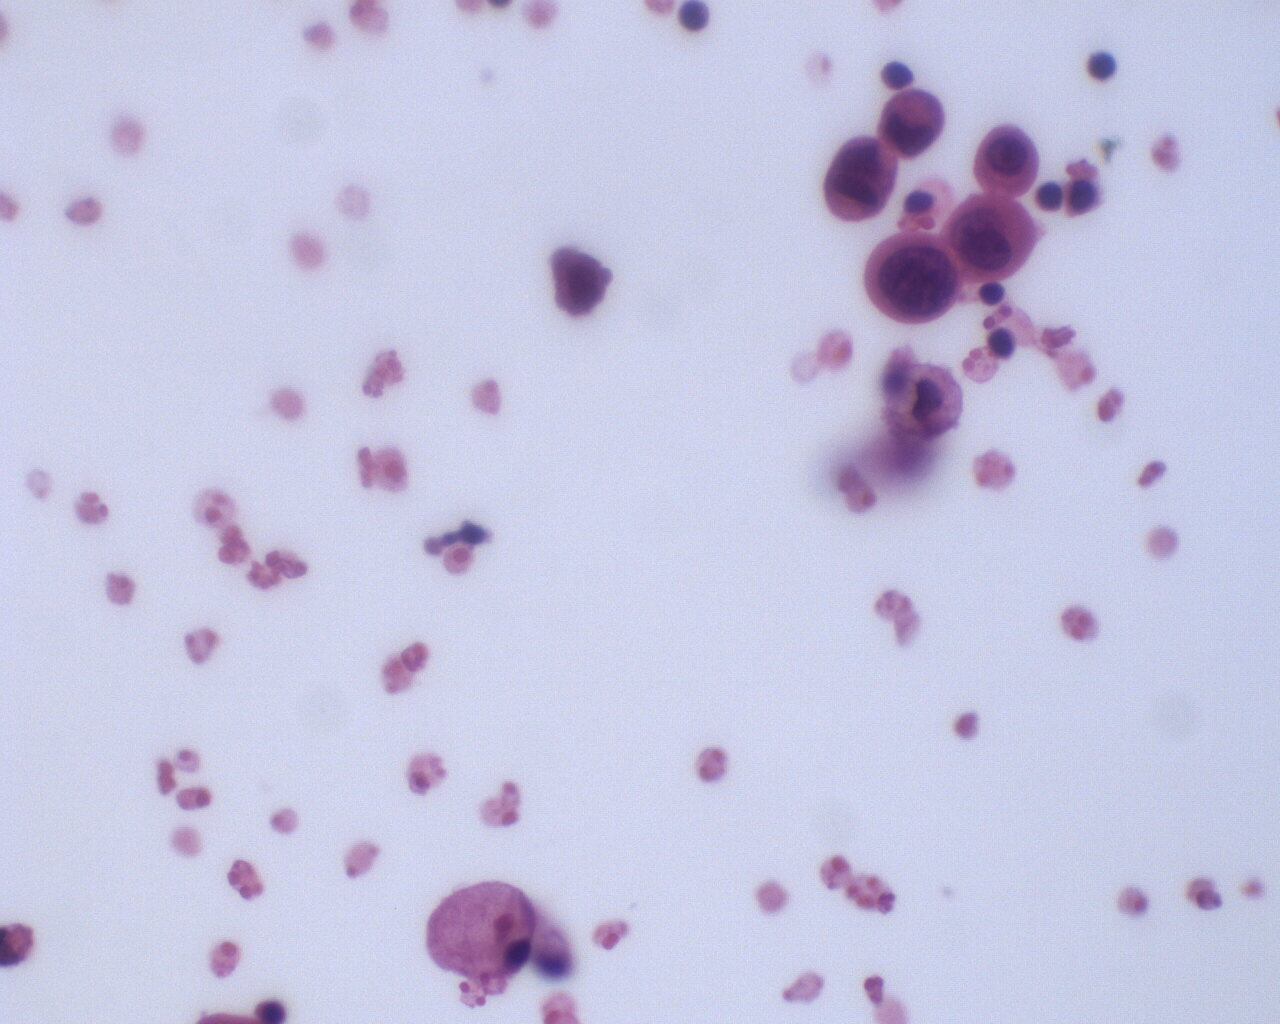ab: (857, 222, 963, 328), (948, 191, 1045, 287), (817, 130, 904, 226), (876, 83, 947, 155)
histo: (423, 870, 540, 983)
lymph: (1085, 50, 1124, 89), (879, 57, 920, 93)
meso: (972, 122, 1047, 199)
